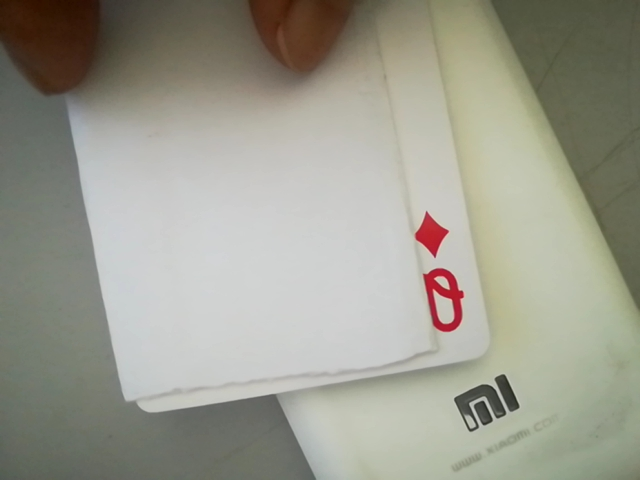fk q: (405, 205, 475, 341)
